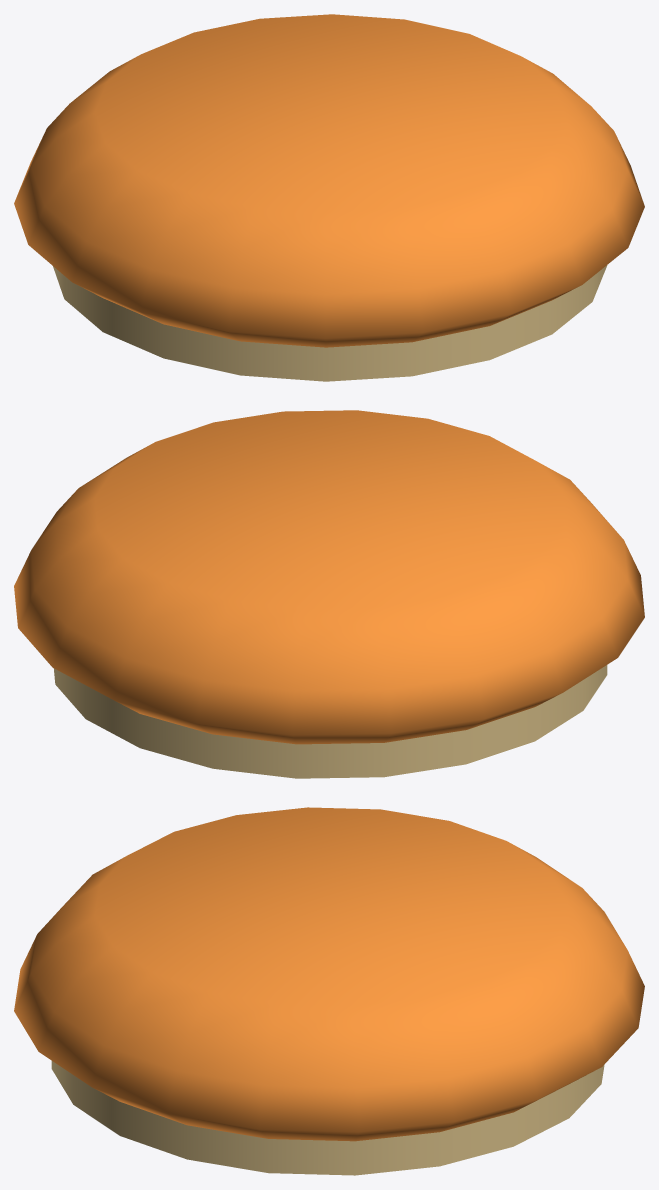
Rendered from Greeeeee.fbx.
The picture shows the model from 3 angles, top to bottom: view 1: azimuth 30°, elevation 25°; view 2: azimuth 150°, elevation 25°; view 3: azimuth 270°, elevation 25°; orthographic projection.
Parts seen in each view (by area): view 1: building1.014; view 2: building1.014; view 3: building1.014.
Boxes of the visible parts, <box> form: building1.014: <box>14,14,644,381</box>; building1.014: <box>14,410,644,778</box>; building1.014: <box>14,807,644,1175</box>.
Bounding box in the file's own units: 73.6 × 19.51 × 73.6.
